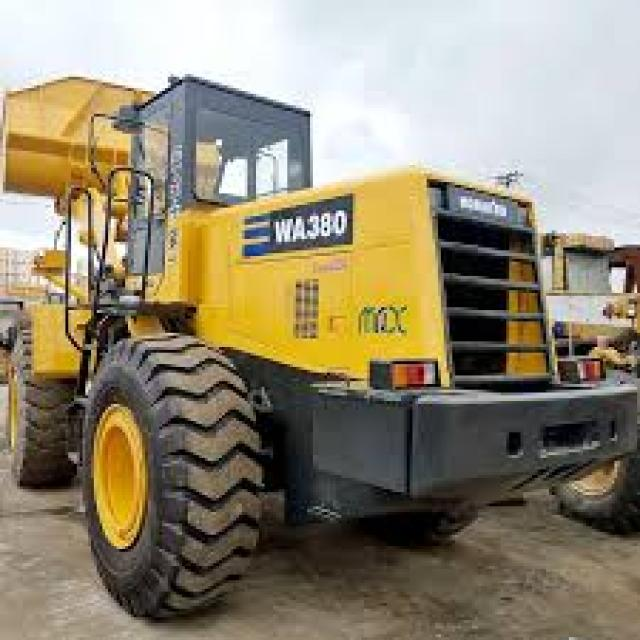buldozerpayloadergrader: (0, 66, 640, 619)
